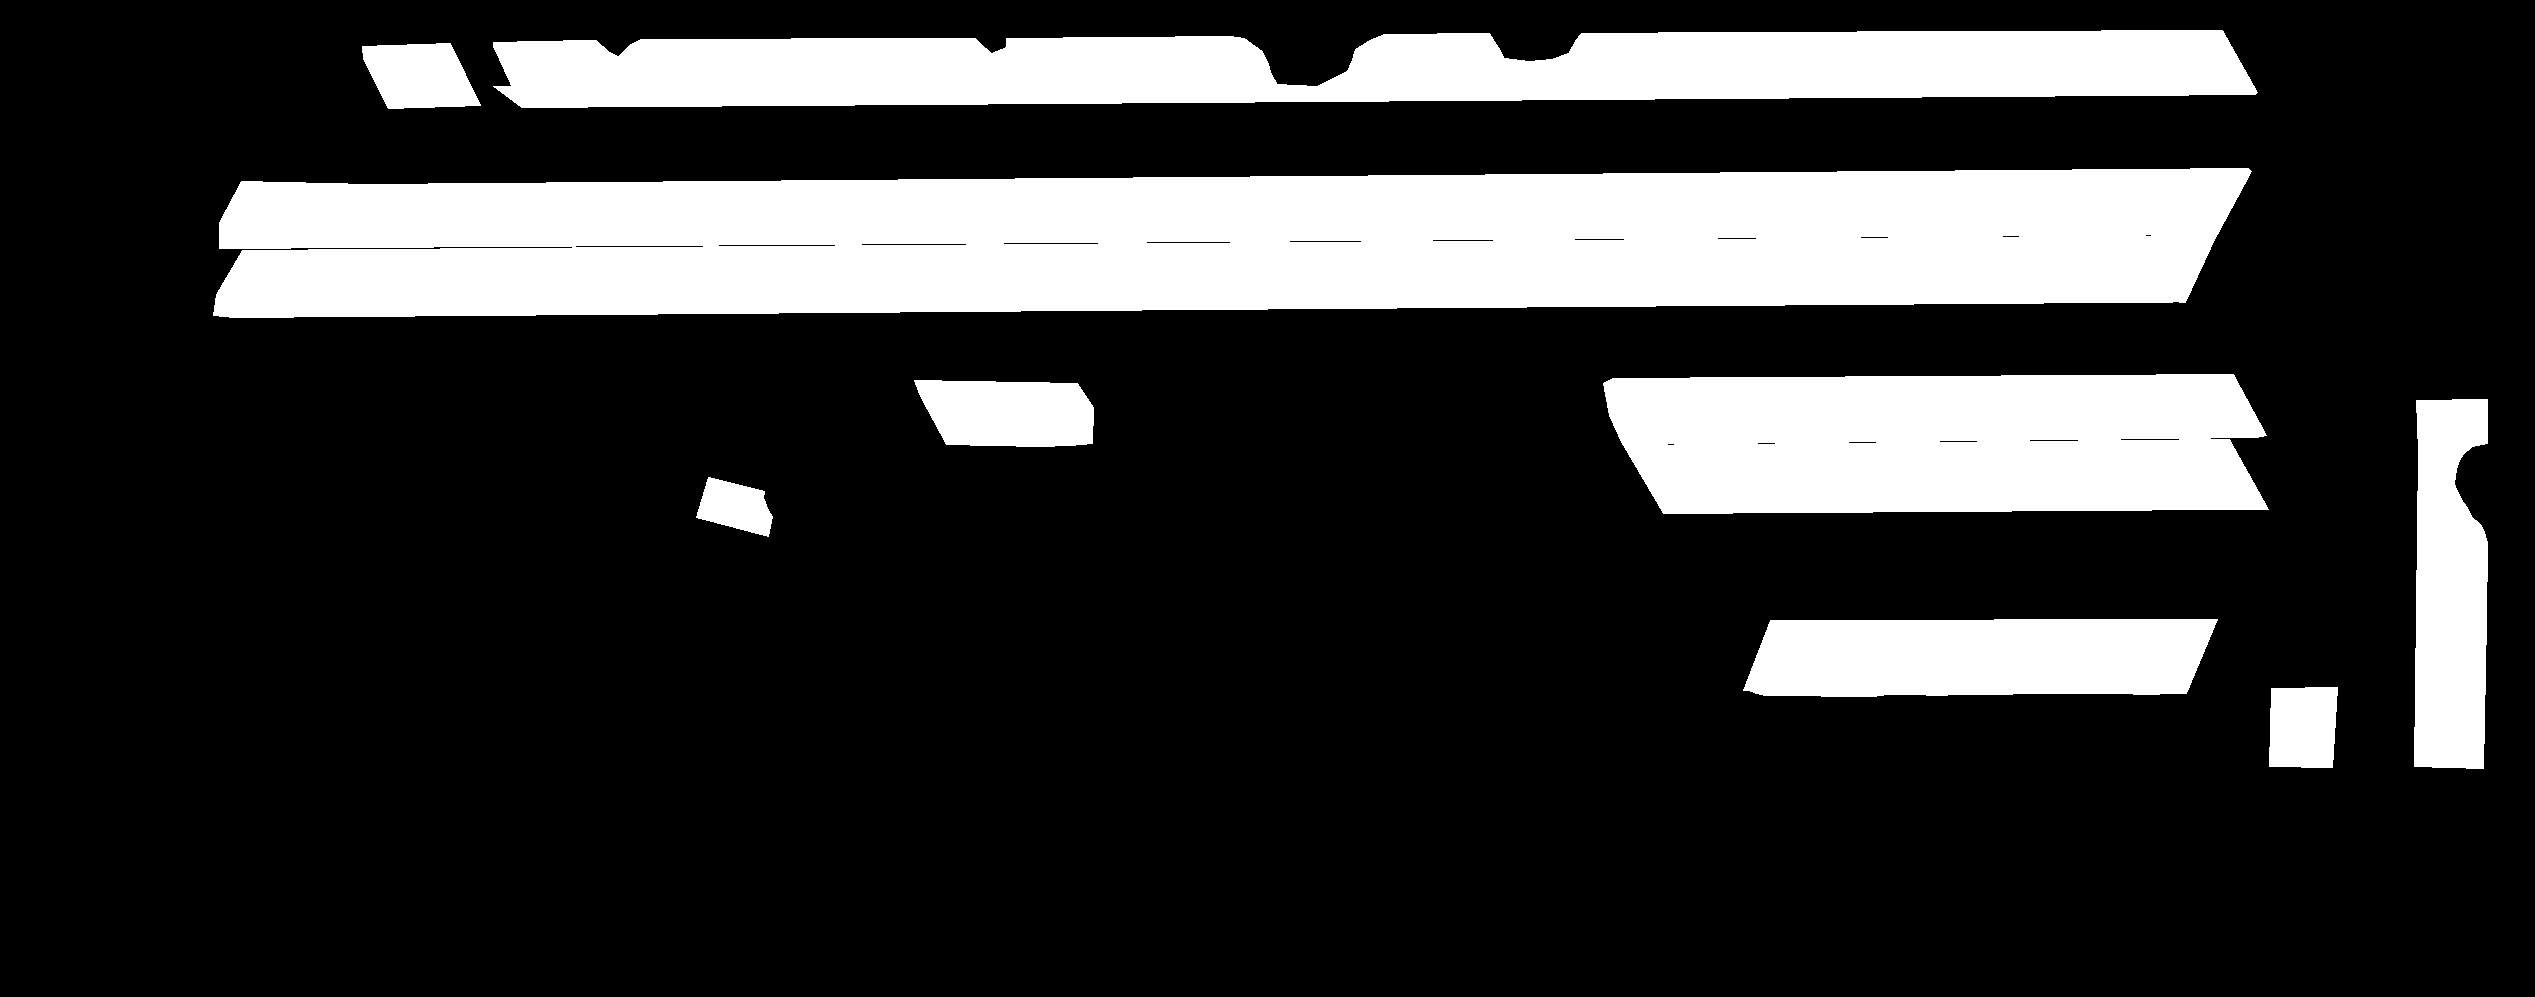parkingspot: (40, 76, 2533, 766), (213, 234, 2217, 317), (218, 168, 2250, 247), (493, 31, 2257, 107), (1604, 373, 2267, 444), (1623, 440, 2268, 512), (1743, 619, 2217, 696), (2414, 399, 2486, 768), (52, 831, 162, 995), (913, 380, 1093, 446), (362, 44, 480, 108), (139, 280, 175, 440), (2268, 687, 2338, 768), (697, 477, 773, 536)
